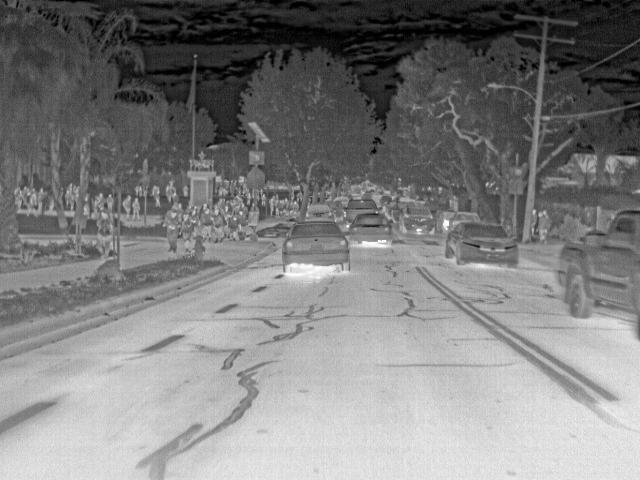car: (550, 208, 640, 340), (282, 220, 351, 274), (445, 222, 520, 270), (349, 212, 394, 247), (396, 206, 435, 234), (344, 198, 381, 225), (385, 200, 417, 221), (449, 211, 481, 231), (305, 204, 335, 220), (436, 209, 455, 234), (324, 200, 347, 218), (333, 195, 352, 208), (379, 193, 391, 205), (362, 191, 372, 199)
person: (96, 212, 116, 260), (164, 208, 179, 252), (212, 206, 226, 244), (200, 206, 212, 244), (181, 212, 192, 253), (248, 202, 260, 232), (227, 214, 239, 241), (539, 211, 549, 243), (16, 184, 26, 212), (123, 193, 133, 219), (190, 206, 199, 234), (133, 195, 141, 222), (268, 193, 277, 217), (238, 210, 247, 233), (155, 184, 163, 208), (64, 188, 72, 211), (39, 185, 46, 211), (276, 197, 285, 217), (106, 192, 114, 213), (282, 195, 290, 216), (99, 190, 106, 212), (532, 207, 537, 237), (291, 198, 299, 216), (166, 183, 173, 202), (33, 186, 39, 206), (182, 182, 189, 199), (85, 191, 90, 213), (261, 191, 267, 209), (544, 209, 550, 226), (73, 188, 79, 202), (200, 203, 208, 213), (138, 184, 144, 197), (224, 200, 230, 213), (134, 184, 140, 196), (150, 184, 156, 196), (172, 190, 178, 202), (239, 201, 246, 211), (176, 201, 182, 208)
